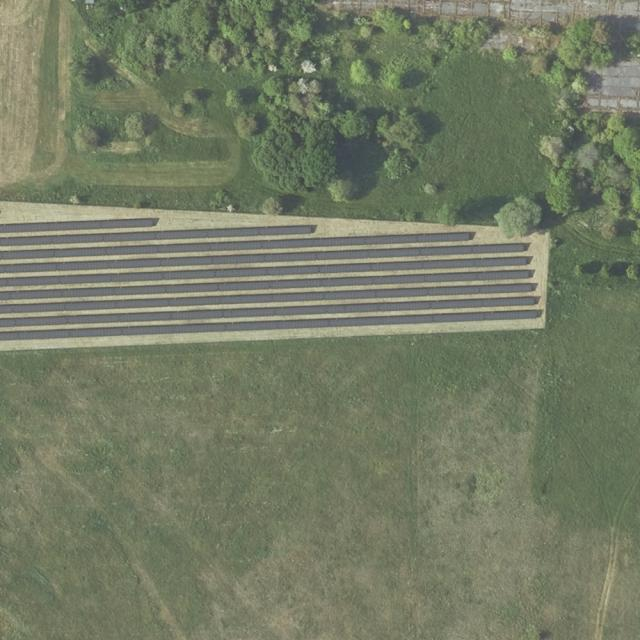PV: (0, 218, 537, 341)
